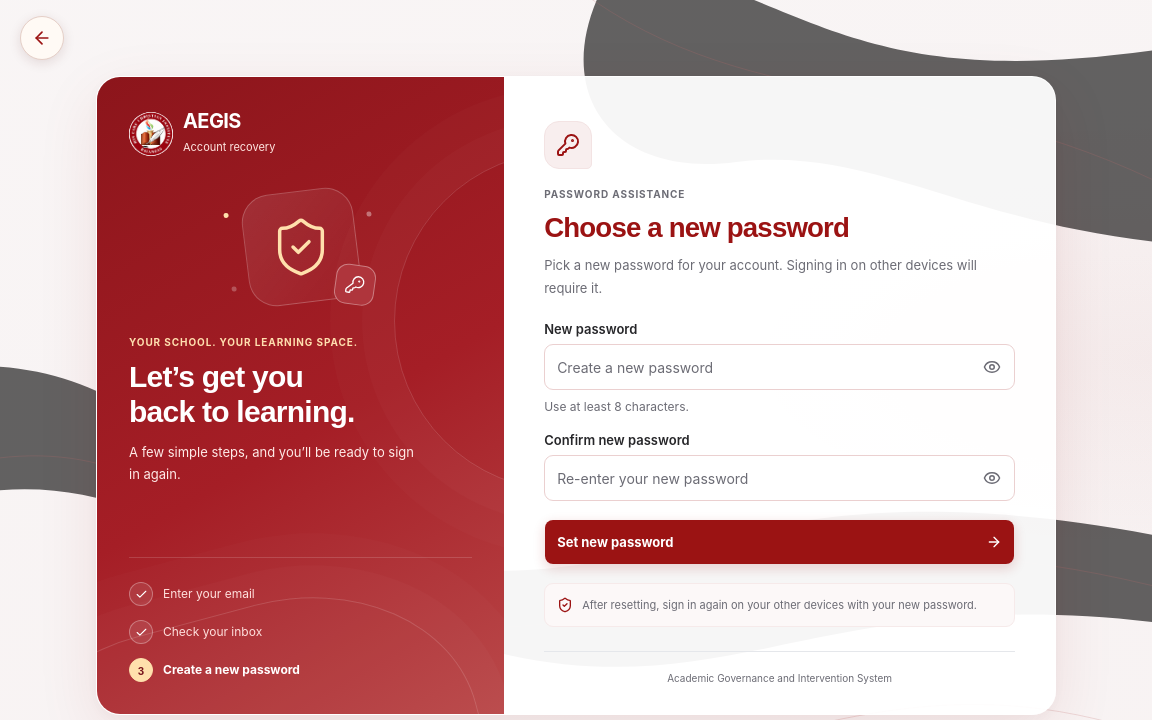
Scenario: ResetPasswordPage › keeps mismatched passwords on the form instead of sending them
The image size is (1152, 720).
In the password field labelled "New password": (780, 367) [544,344,1015,390], type "brandnewpass1"
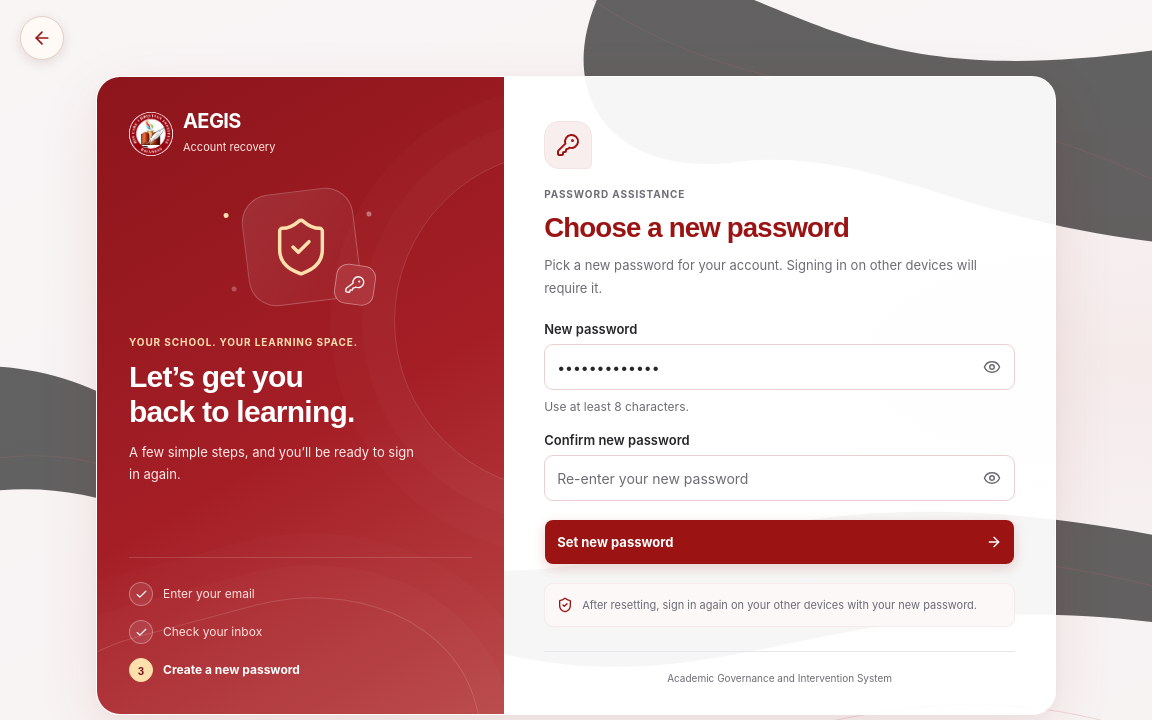
In the password field labelled "Confirm new password": (780, 478) [544,455,1015,501], type "differentpass1"
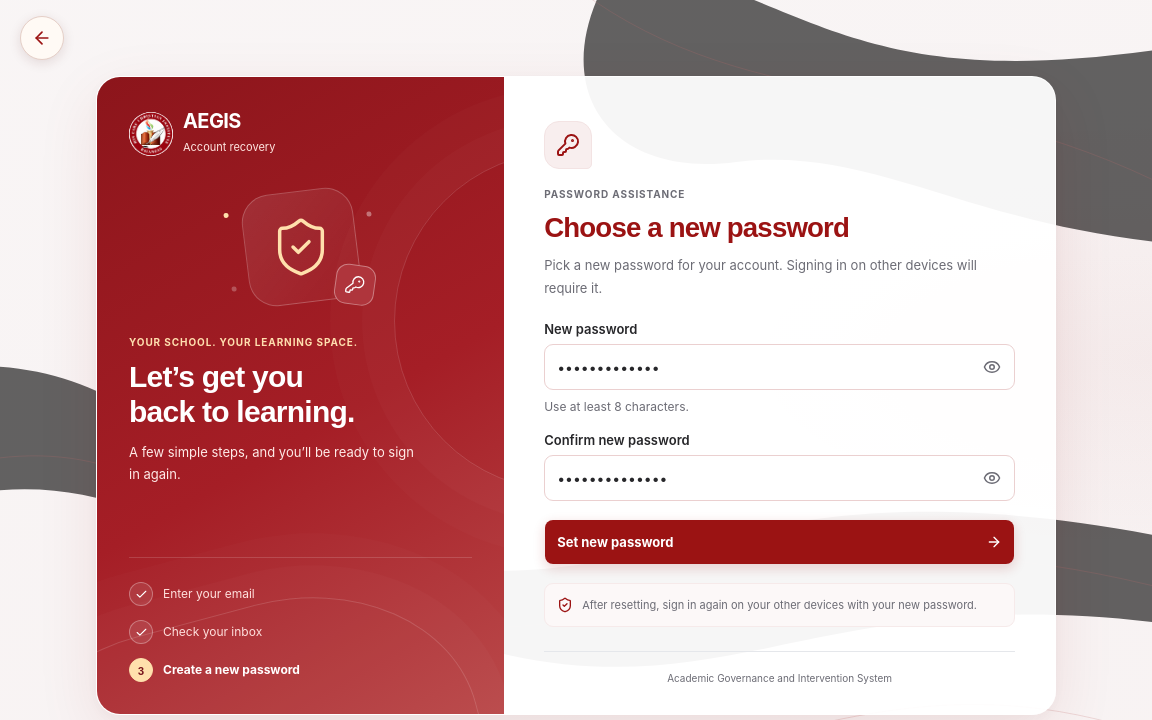
Click the button "Set new password": (615, 542) [544,519,1015,565]
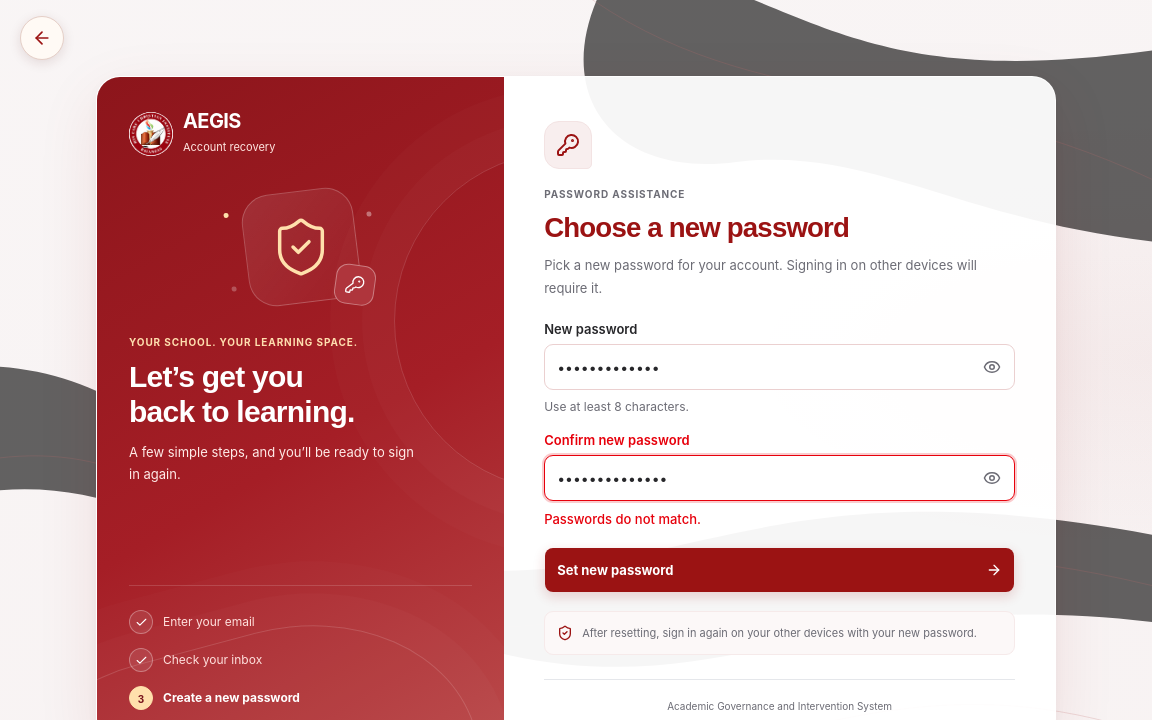
Expected: the text "Passwords do not match." is shown, [544,511,701,527]
